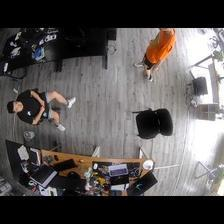normal: (9, 87, 78, 136), (133, 27, 181, 84)
